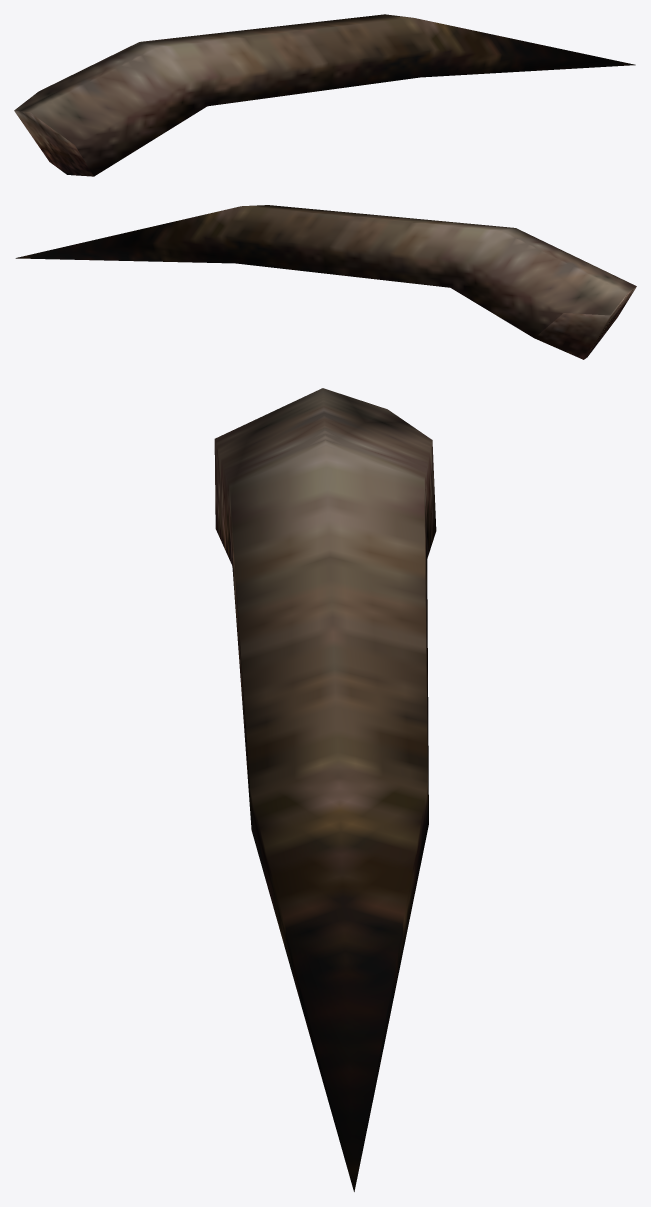
Rendered from ob-11-03-bonetunnel02_11.glb.
3 renders of one model, top to bottom at view 1: azimuth 30°, elevation 25°; view 2: azimuth 150°, elevation 25°; view 3: azimuth 270°, elevation 25°, orthographic. The views are drawn at different scales.
Visible parts, largest first — view 1: Sphere02; view 2: Sphere02; view 3: Sphere02.
Boxes of the visible parts, x1,y1,x2,y2 form: Sphere02: [14, 14, 635, 176]; Sphere02: [15, 205, 636, 359]; Sphere02: [214, 388, 436, 1191].
Size of the model in its own units: 6.39 by 1.4 by 1.01.
Materials: 1 (1 with a texture image).
